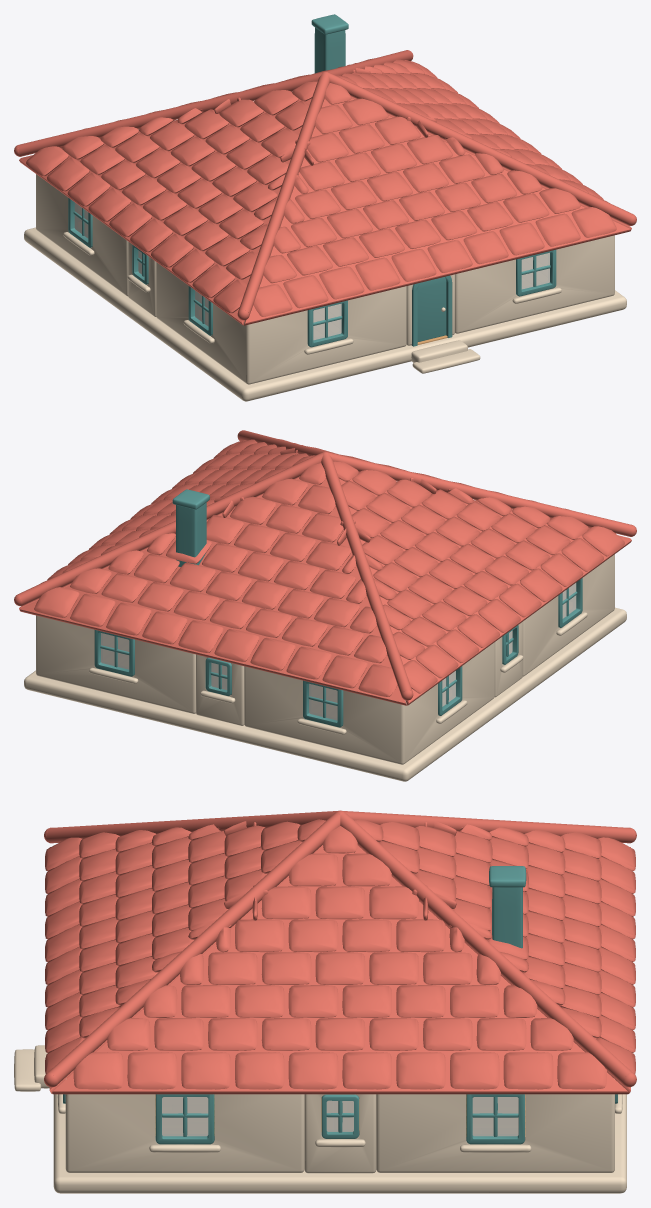
File: four_corners_stage4.glb
3 renders of one model, top to bottom at view 1: azimuth 30°, elevation 25°; view 2: azimuth 150°, elevation 25°; view 3: azimuth 270°, elevation 25°, orthographic. The views are drawn at different scales.
Parts seen in each view (by area): view 1: roof, room_3_walls, base, room_4_walls, room_1_walls, room_3_windows, room_4_windows, hallway_door, hallway_windows, hallway_walls, room_1_windows; view 2: roof, room_1_walls, base, room_2_walls, room_3_walls, room_1_windows, hallway_walls, room_2_windows, hallway_windows, room_3_windows; view 3: roof, room_4_walls, room_2_walls, base, hallway_walls, room_4_windows, room_2_windows, hallway_windows.
Part boxes in pixels (bbox=[...]): roof: bbox=[14, 14, 636, 325]; room_3_walls: bbox=[156, 262, 406, 384]; base: bbox=[24, 227, 626, 401]; room_4_walls: bbox=[455, 235, 614, 333]; room_1_walls: bbox=[36, 174, 128, 296]; room_3_windows: bbox=[183, 286, 353, 354]; room_4_windows: bbox=[512, 249, 561, 303]; hallway_door: bbox=[417, 277, 446, 341]; hallway_windows: bbox=[127, 245, 452, 346]; hallway_walls: bbox=[128, 242, 454, 345]; room_1_windows: bbox=[63, 198, 94, 255]; roof: bbox=[14, 430, 636, 705]; room_1_walls: bbox=[244, 642, 494, 764]; base: bbox=[24, 607, 626, 781]; room_2_walls: bbox=[36, 615, 195, 713]; room_3_walls: bbox=[522, 554, 614, 676]; room_1_windows: bbox=[297, 666, 467, 734]; hallway_walls: bbox=[196, 622, 522, 725]; room_2_windows: bbox=[89, 630, 138, 683]; hallway_windows: bbox=[200, 625, 523, 703]; room_3_windows: bbox=[556, 578, 587, 635]; roof: bbox=[44, 810, 636, 1094]; room_4_walls: bbox=[65, 1094, 304, 1172]; room_2_walls: bbox=[376, 1094, 614, 1172]; base: bbox=[14, 1045, 626, 1193]; hallway_walls: bbox=[304, 1094, 376, 1173]; room_4_windows: bbox=[57, 1094, 220, 1152]; room_2_windows: bbox=[460, 1094, 622, 1152]; hallway_windows: bbox=[315, 1094, 365, 1147].
Bounding box in the file's own units: 14.9 × 7.3 × 15.65.
